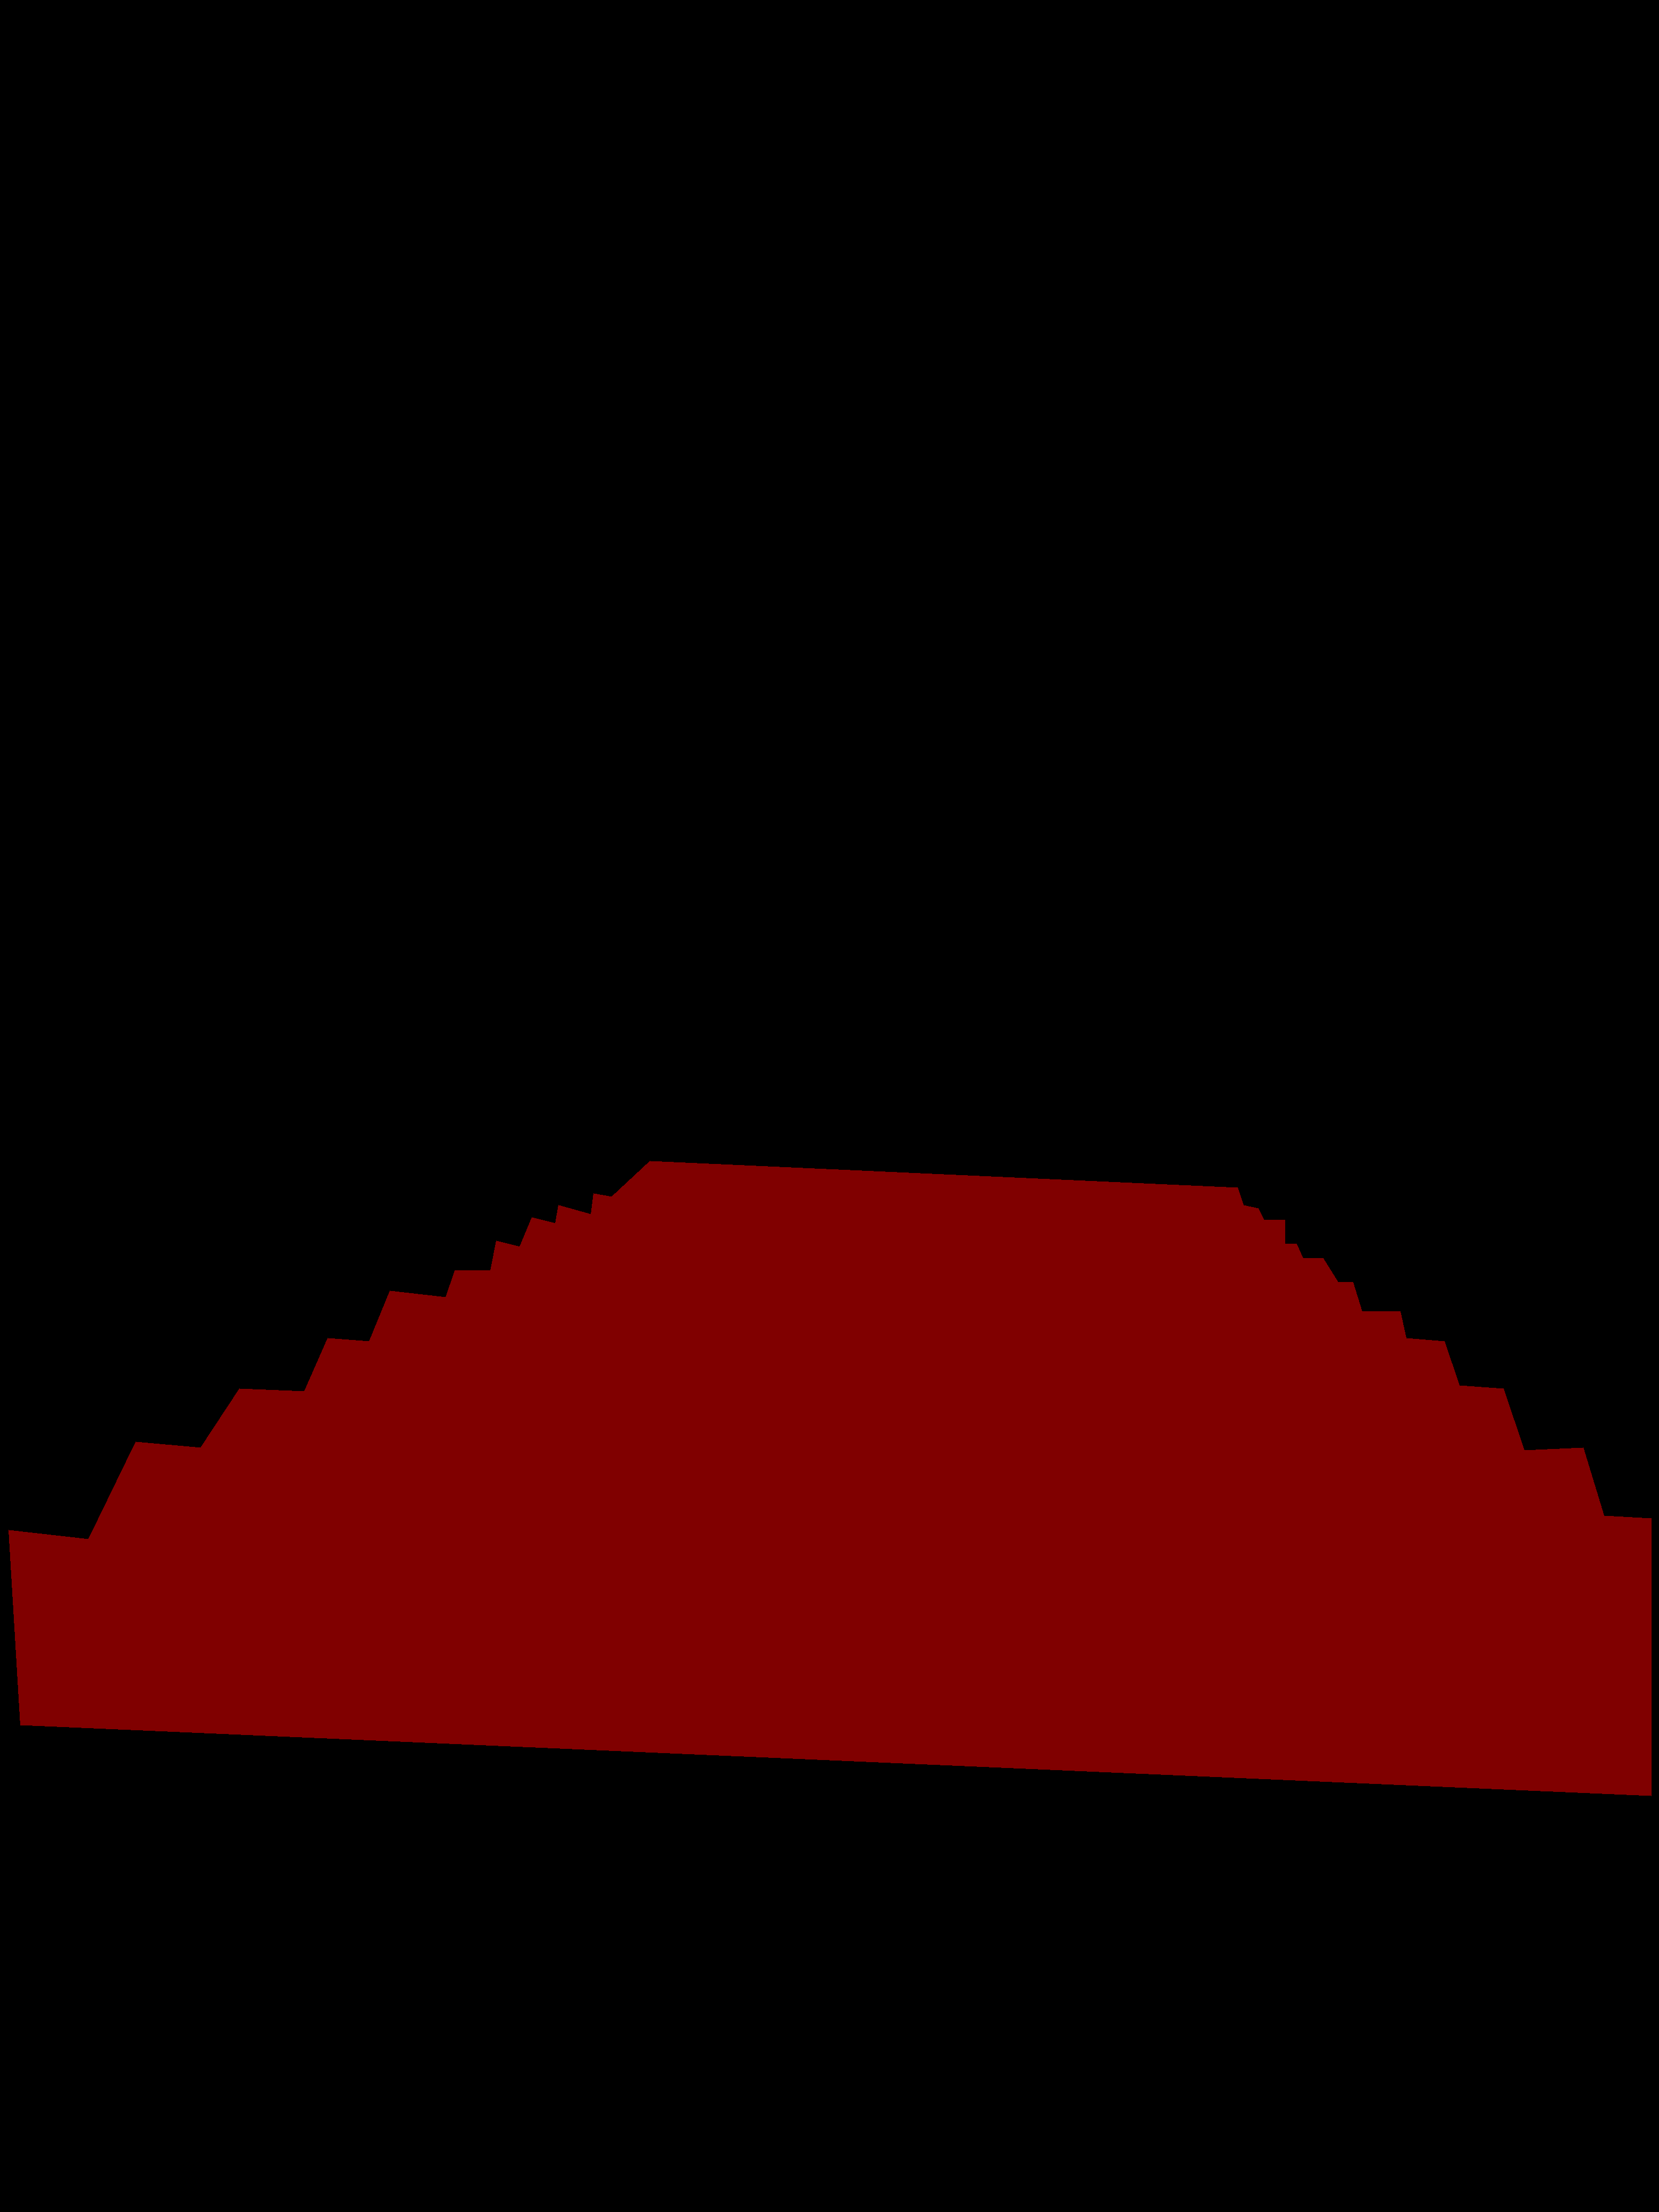stair: (9, 1160, 1650, 1796)
